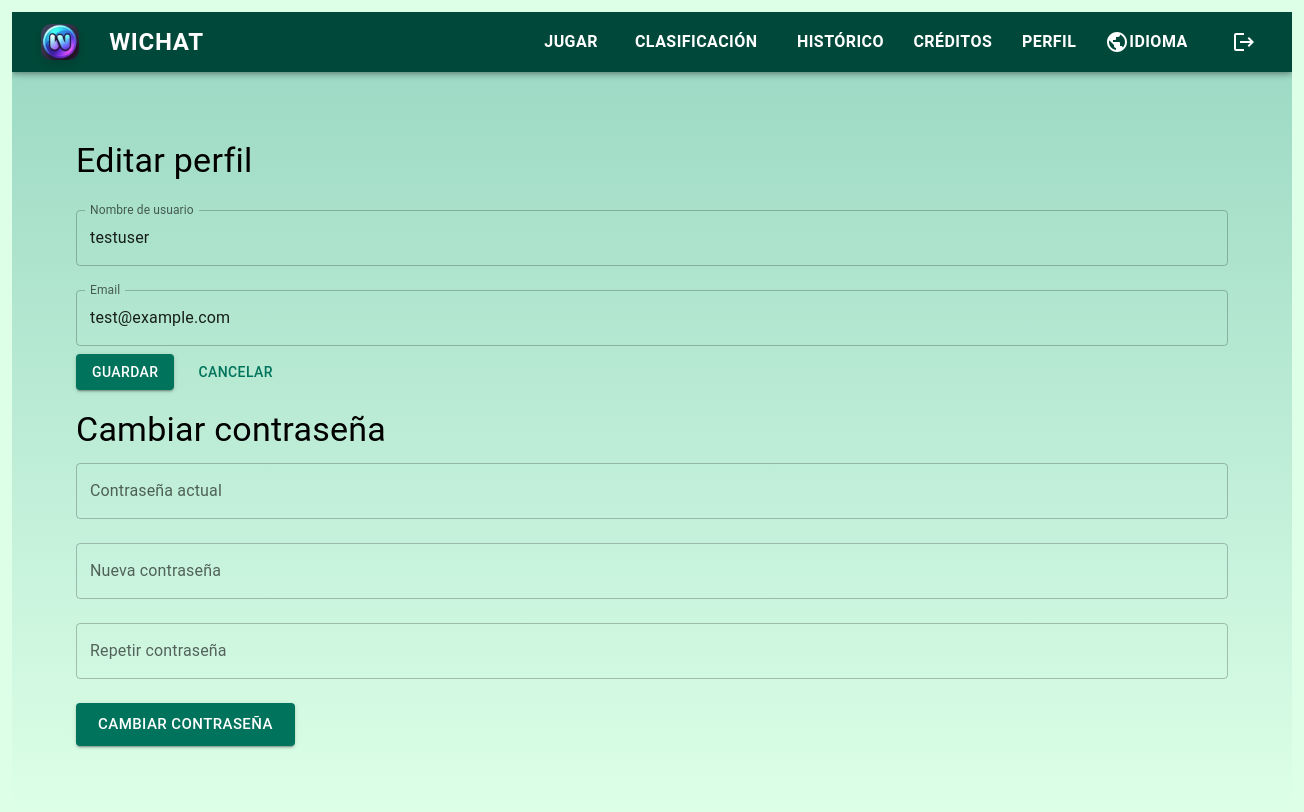
Test: EditProfile Component › displays error message on failed save
Click the button with test id "save-button" at (125, 372), box 76,354 -> 174,390
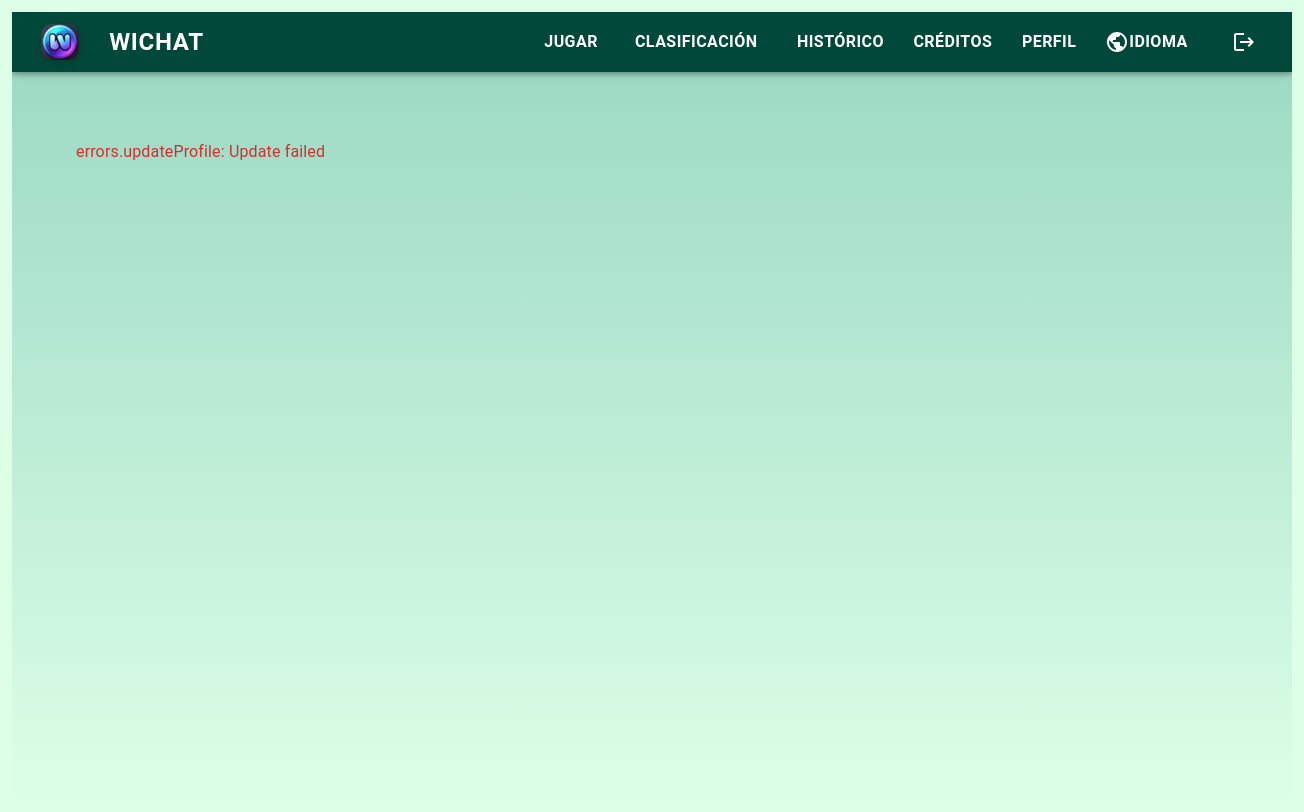
Now the text "errors.updateProfile: Update failed" is shown, box 76,142 -> 325,161
